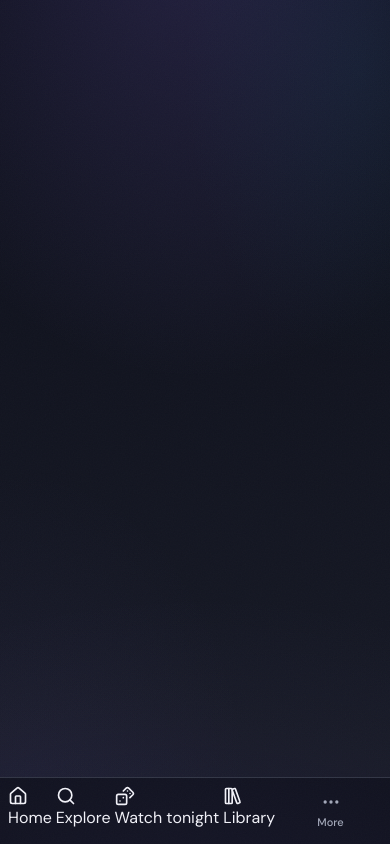
Scenario: MobileTabBar › opens the full navigation in a sheet from the More tab
Expected: the link "Settings" is not shown
Click the button "More" at (330, 811), box [279,786,382,836]
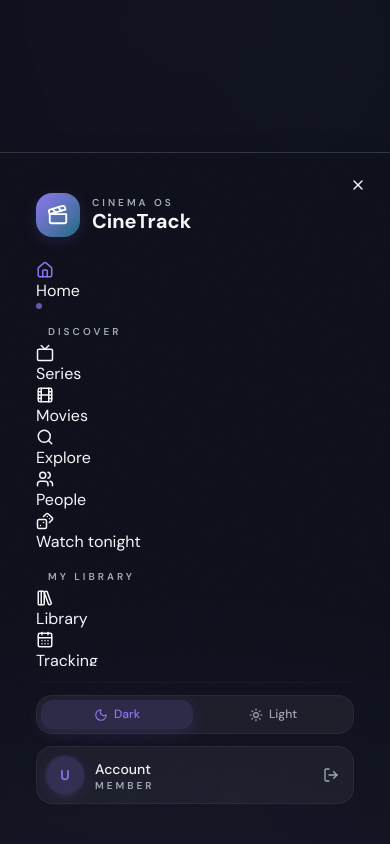
Expected: the link "Series" is shown, [36,344,81,384]
